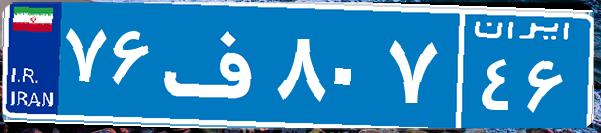0: (330, 28, 385, 110)
4: (475, 38, 525, 113)
6: (110, 28, 158, 105), (525, 38, 570, 115)
7: (385, 28, 445, 110), (57, 26, 110, 107)
8: (273, 28, 330, 110)
ف: (158, 15, 273, 115)
